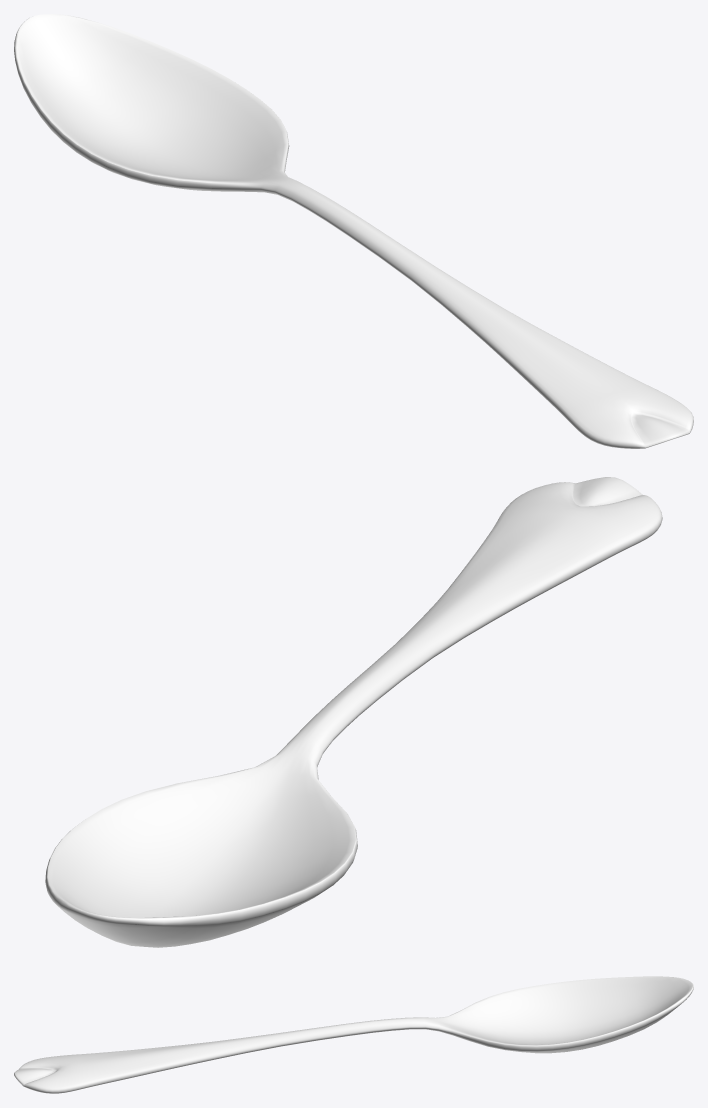
File: shao.fbx
3 views of the same model, one above another, from view 1: azimuth 30°, elevation 25°; view 2: azimuth 150°, elevation 25°; view 3: azimuth 270°, elevation 25° (orthographic). The views are drawn at different scales.
Visible parts, largest first — view 1: polySurface2; view 2: polySurface2; view 3: polySurface2.
Boxes of the visible parts, x1=… form: polySurface2: x1=14, y1=14, x2=693, y2=448; polySurface2: x1=45, y1=477, x2=662, y2=947; polySurface2: x1=14, y1=976, x2=693, y2=1093.
Size of the model in its own units: 6.88 by 2.34 by 25.72.
